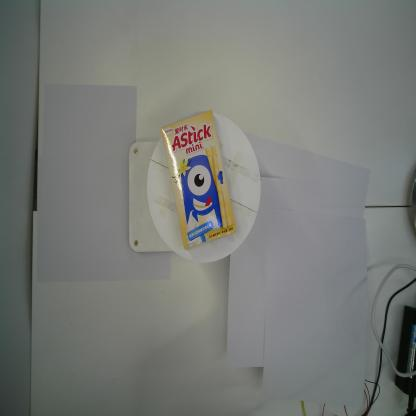Dessert: (159, 108, 238, 253)
